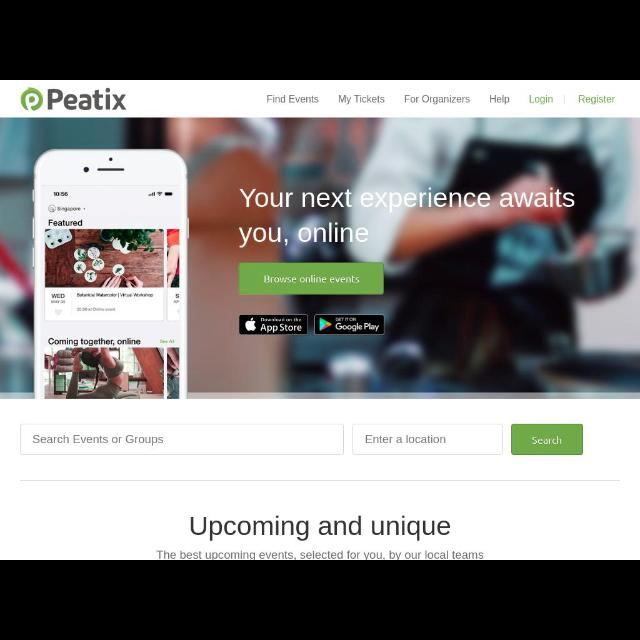backgroundimage: (1, 118, 640, 398)
image: (34, 148, 190, 398), (21, 87, 128, 111), (318, 317, 332, 331), (245, 316, 257, 332)
input: (20, 425, 344, 455), (352, 424, 503, 456)
text: (239, 188, 575, 248), (190, 516, 452, 542), (156, 550, 484, 560), (32, 434, 164, 446), (264, 274, 360, 284), (366, 434, 446, 446), (334, 316, 380, 332), (404, 95, 471, 105), (260, 318, 302, 332), (338, 94, 386, 106), (266, 94, 320, 104), (578, 95, 616, 105), (532, 436, 562, 446), (528, 95, 554, 105), (490, 95, 510, 105)
textbutton: (240, 264, 384, 294), (512, 424, 582, 456), (314, 315, 384, 335), (240, 315, 308, 335)
toolbar: (1, 80, 640, 116)
